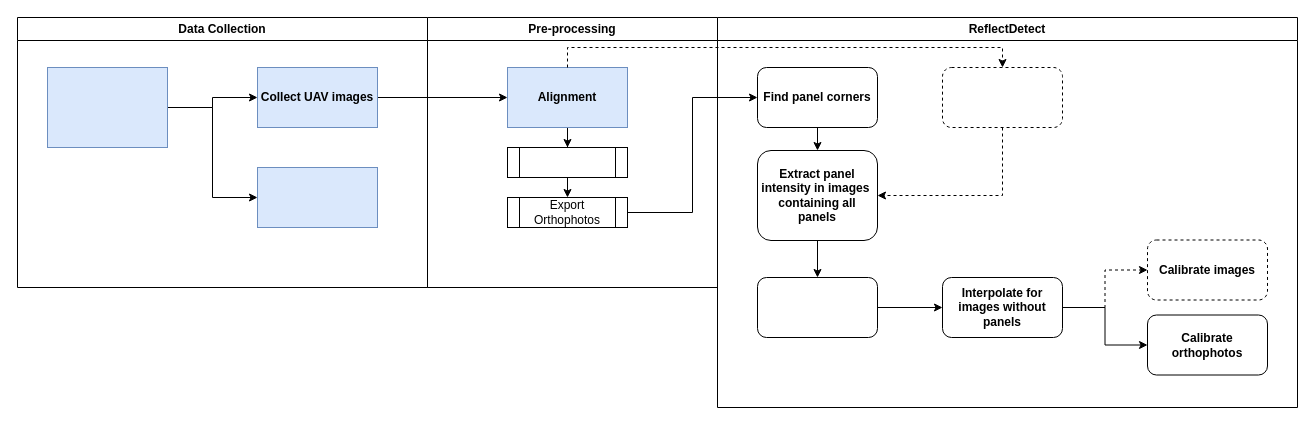
Some shapes in this 1315 by 425 pixel diagram are drawn without their labels. The centre of each missing label's shape, as x and y in pixels:
Collect spectral signatures of panels (0%, x, y, z, 100%): the point at 317,197
Detect panels using object detection: the point at 1002,97
Fit linear function: the point at 817,307
Georeferencing: the point at 567,162
Place panels in scene and collect coordinates: the point at 107,107
